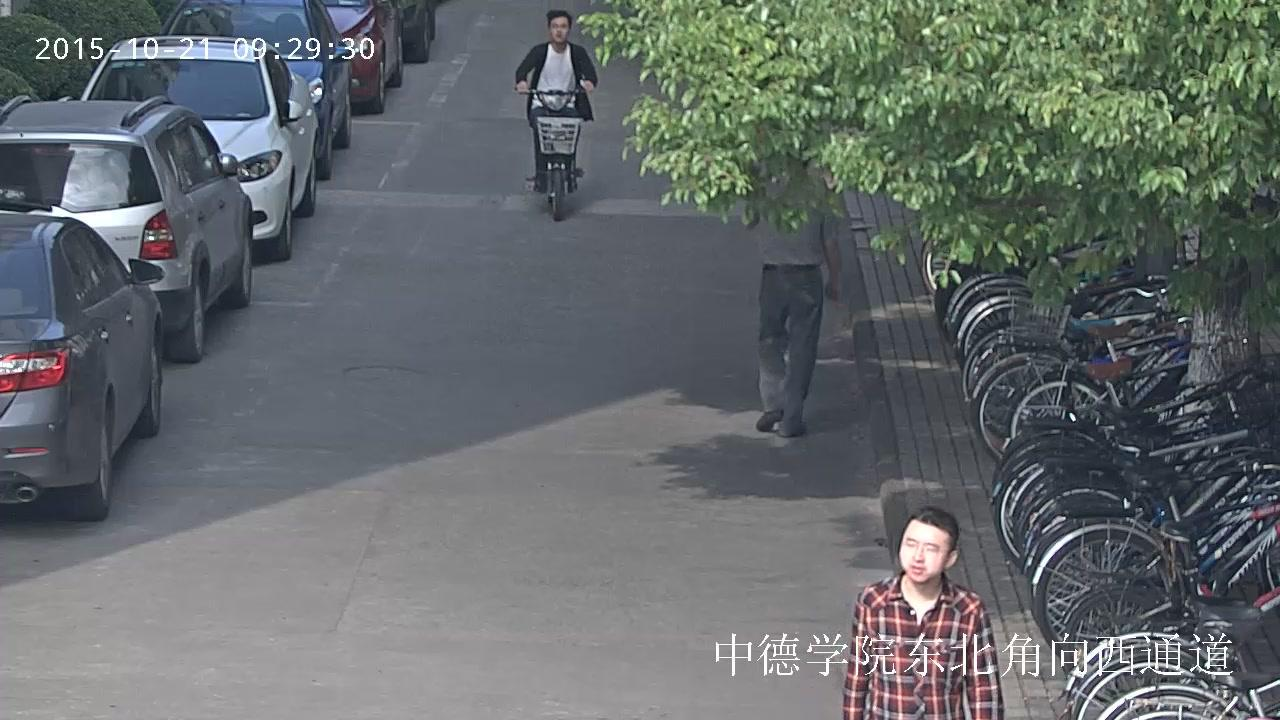face: (900, 520, 947, 582), (550, 16, 568, 41)
